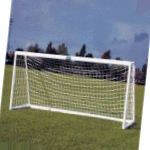goals: (9, 49, 135, 131)
